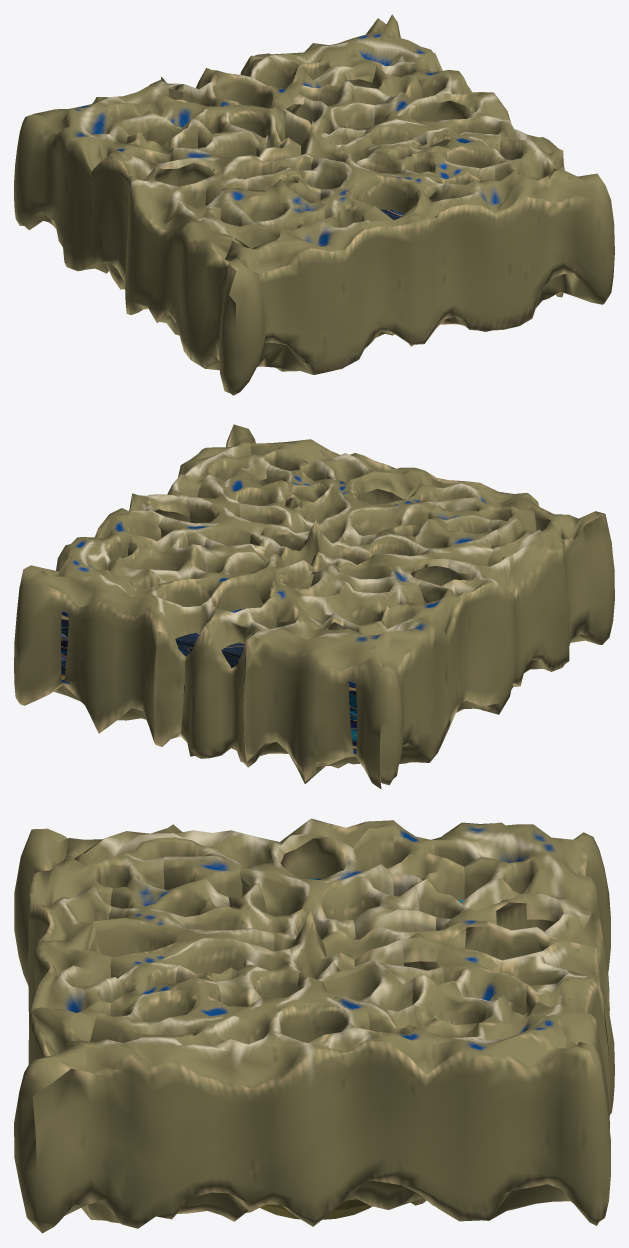
File: tile6Pre.glb
The picture shows the model from 3 angles, top to bottom: view 1: azimuth 30°, elevation 25°; view 2: azimuth 150°, elevation 25°; view 3: azimuth 270°, elevation 25°; orthographic projection. The views are drawn at different scales.
Visible parts, largest first — view 1: Mesh_0.005; view 2: Mesh_0.005; view 3: Mesh_0.005.
Part boxes in pixels (x1,y1,x2,y2): Mesh_0.005: (14, 14, 614, 395); Mesh_0.005: (14, 424, 614, 789); Mesh_0.005: (14, 818, 614, 1233).
Size of the model in its own units: 1.05 by 0.5391 by 1.06.
Materials: 3 (3 with a texture image).
